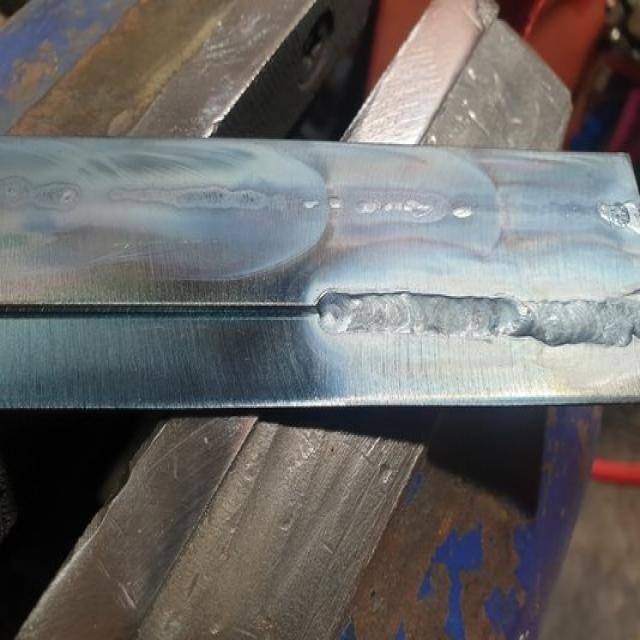Good Weld: (327, 290, 632, 350)
